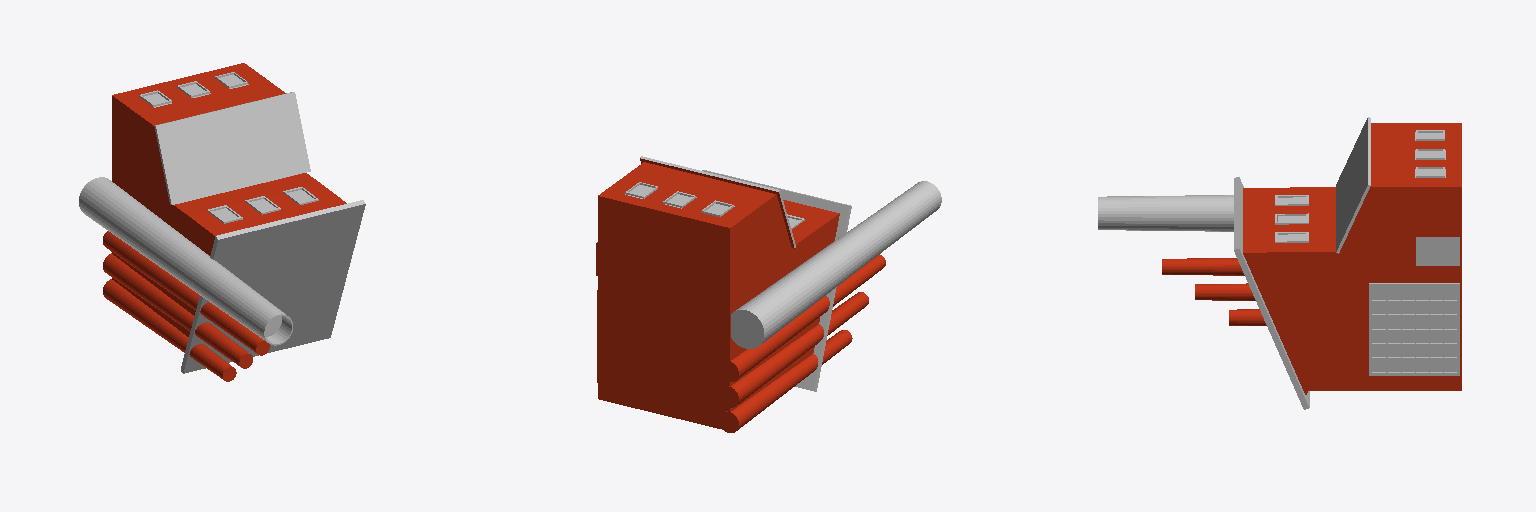
File: factory.obj
The picture shows the model from 3 angles: view 1: azimuth 30°, elevation 25°; view 2: azimuth 150°, elevation 25°; view 3: azimuth 270°, elevation 25°; orthographic projection.
Parts seen in each view (by area): view 1: obj1, obj5, obj3, obj4, obj2; view 2: obj1, obj5, obj3, obj4, obj2; view 3: obj1, obj5, obj4, obj3, obj2.
Boxes of the visible parts, <box> form: obj1: <box>112,63,365,373</box>; obj5: <box>79,177,292,345</box>; obj3: <box>103,253,252,368</box>; obj4: <box>103,231,269,355</box>; obj2: <box>103,279,236,381</box>; obj1: <box>596,156,851,429</box>; obj5: <box>731,181,941,348</box>; obj3: <box>719,292,868,407</box>; obj4: <box>719,254,885,381</box>; obj2: <box>719,330,852,432</box>; obj1: <box>1234,117,1461,409</box>; obj5: <box>1098,195,1233,231</box>; obj4: <box>1162,258,1244,275</box>; obj3: <box>1195,283,1255,300</box>; obj2: <box>1229,309,1266,325</box>.
Size of the model in its own units: 2.62 by 3.22 by 4.76.